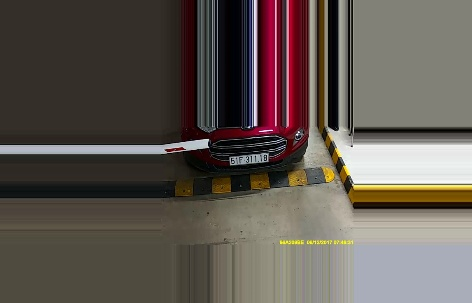plate: (229, 150, 270, 165)
